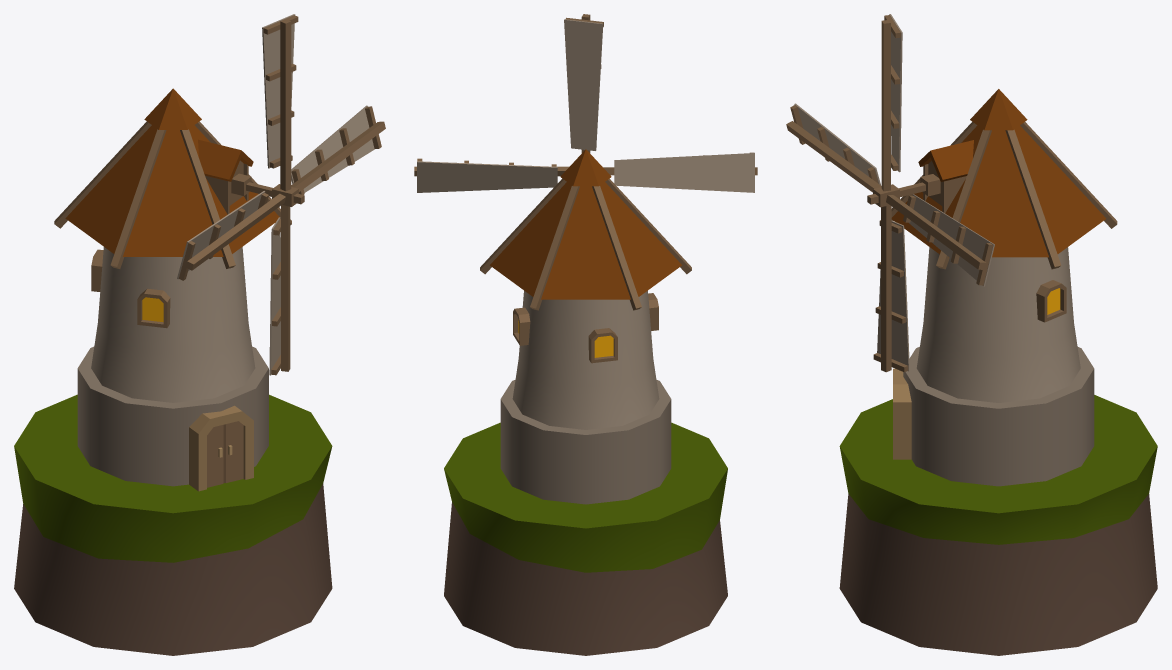
Rendered from Melnica.fbx.
3 renders of one model, left to right at view 1: azimuth 30°, elevation 25°; view 2: azimuth 150°, elevation 25°; view 3: azimuth 270°, elevation 25°, orthographic. The views are drawn at different scales.
Visible parts, largest first — view 1: SM_DL_Melnica; view 2: SM_DL_Melnica; view 3: SM_DL_Melnica.
Boxes of the visible parts, box(x1,y1,x2,y2) form: SM_DL_Melnica: box(14, 14, 385, 655); SM_DL_Melnica: box(414, 14, 757, 655); SM_DL_Melnica: box(786, 14, 1157, 655).
Bounding box in the file's own units: 3.57 × 5.96 × 3.38.
